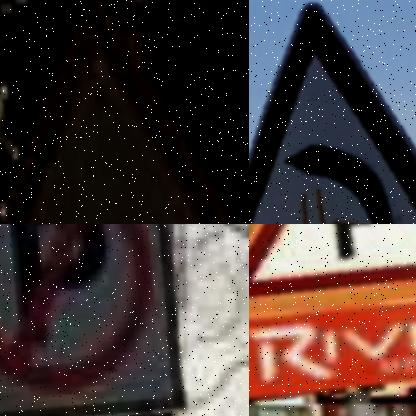Left bend: (249, 0, 416, 224)
Parking: (249, 224, 416, 402)
Speed Breaker Ahead: (2, 0, 236, 224)
